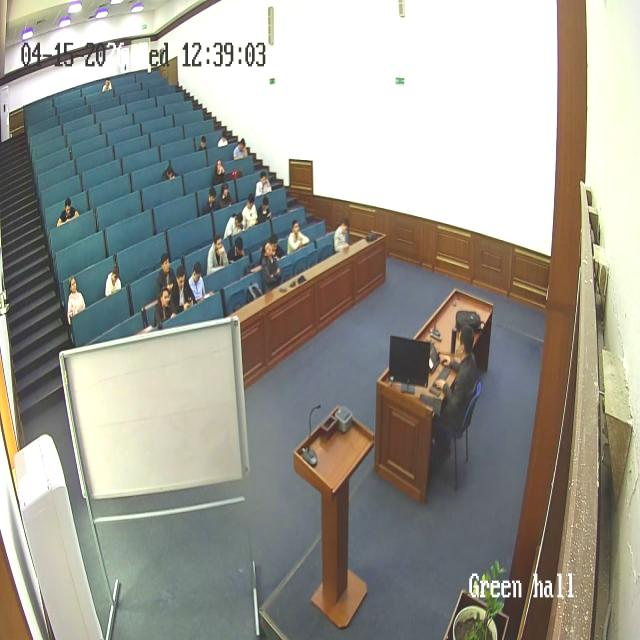person: (432, 324, 480, 470), (260, 240, 283, 293), (172, 266, 194, 314), (66, 273, 86, 325), (188, 261, 210, 305), (206, 233, 228, 275), (153, 287, 175, 328), (157, 253, 177, 295), (286, 221, 310, 255), (56, 196, 80, 226), (228, 236, 250, 266), (241, 193, 259, 229), (105, 261, 123, 296), (334, 216, 351, 252), (224, 211, 244, 239), (254, 170, 272, 197), (212, 156, 228, 186), (217, 181, 233, 210), (256, 196, 272, 223), (205, 187, 220, 215), (233, 137, 249, 161), (162, 159, 178, 181), (217, 130, 229, 148), (199, 133, 208, 151), (102, 76, 112, 92)
